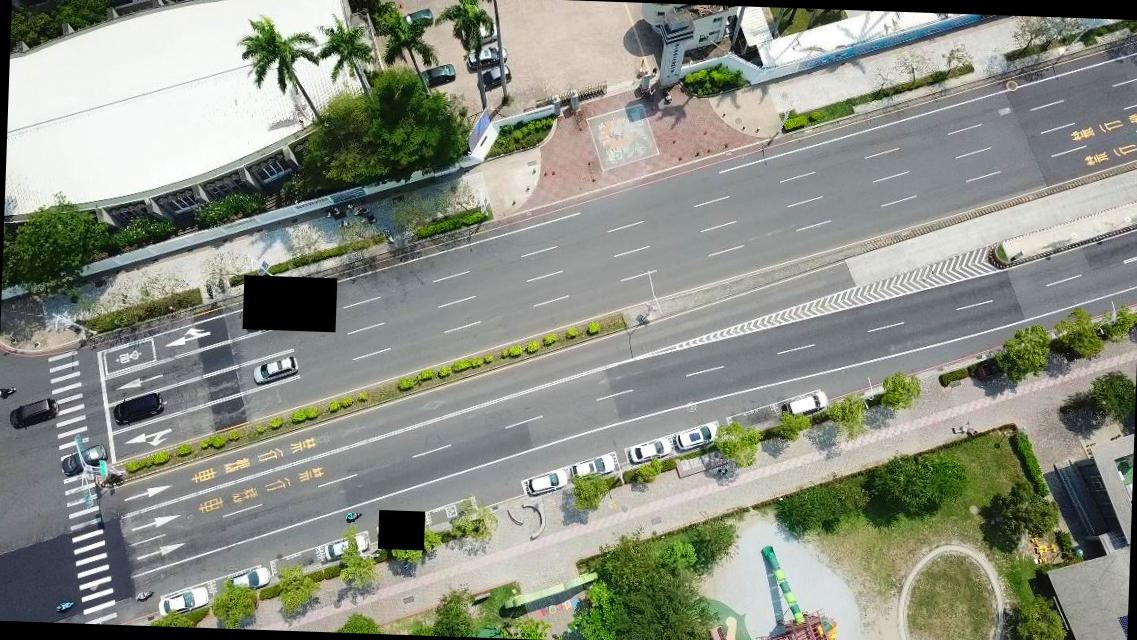vehicle: (113, 392, 163, 427), (156, 584, 210, 616), (250, 354, 300, 386), (62, 444, 106, 479), (9, 398, 57, 430), (674, 419, 720, 452), (324, 532, 369, 562), (783, 390, 828, 420), (570, 452, 616, 480), (526, 467, 566, 497), (628, 436, 670, 464), (228, 566, 272, 592), (466, 46, 510, 70), (475, 64, 512, 92), (416, 62, 454, 88), (462, 22, 500, 48), (398, 8, 433, 31)
